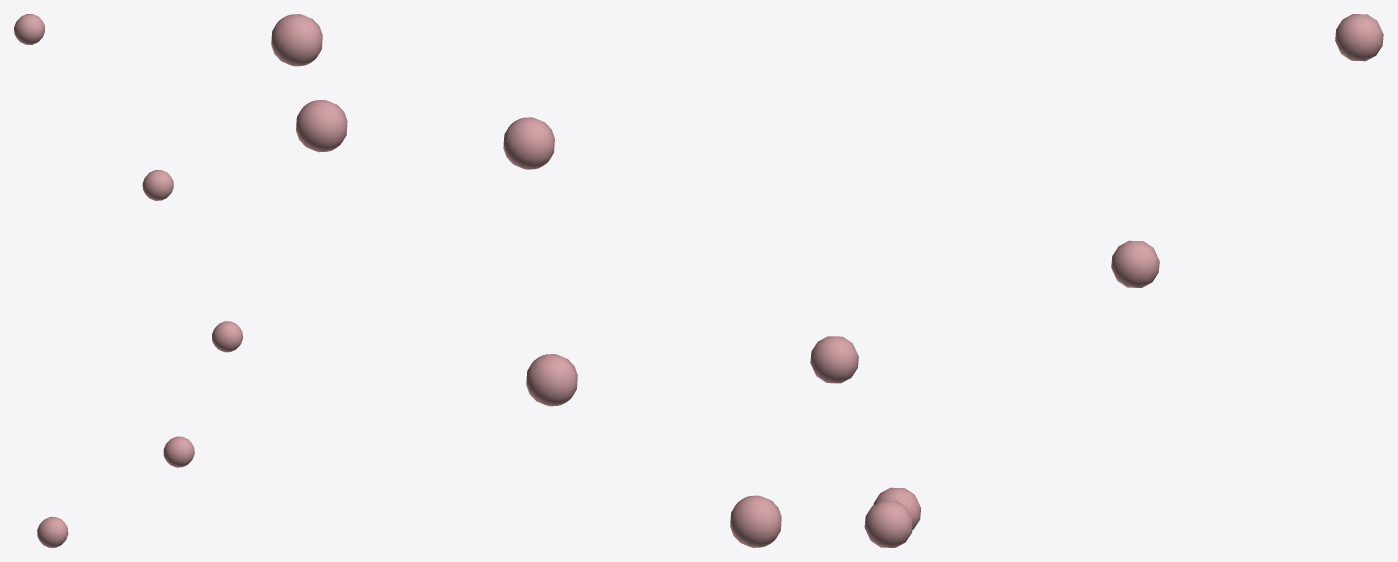
The picture shows the model from 3 angles, left to right: view 1: azimuth 30°, elevation 25°; view 2: azimuth 150°, elevation 25°; view 3: azimuth 270°, elevation 25°; orthographic projection. The views are drawn at different scales.
Visible parts, largest first — view 1: ZA_84f560167044782f; view 2: ZA_84f560167044782f; view 3: ZA_84f560167044782f.
Part boxes in pixels (box(x1,y1,x2,y2)): ZA_84f560167044782f: box(14, 14, 242, 547); ZA_84f560167044782f: box(271, 14, 781, 547); ZA_84f560167044782f: box(810, 14, 1383, 547).
Bounding box in the file's own units: 0.0199 × 0.0357 × 0.0302.
